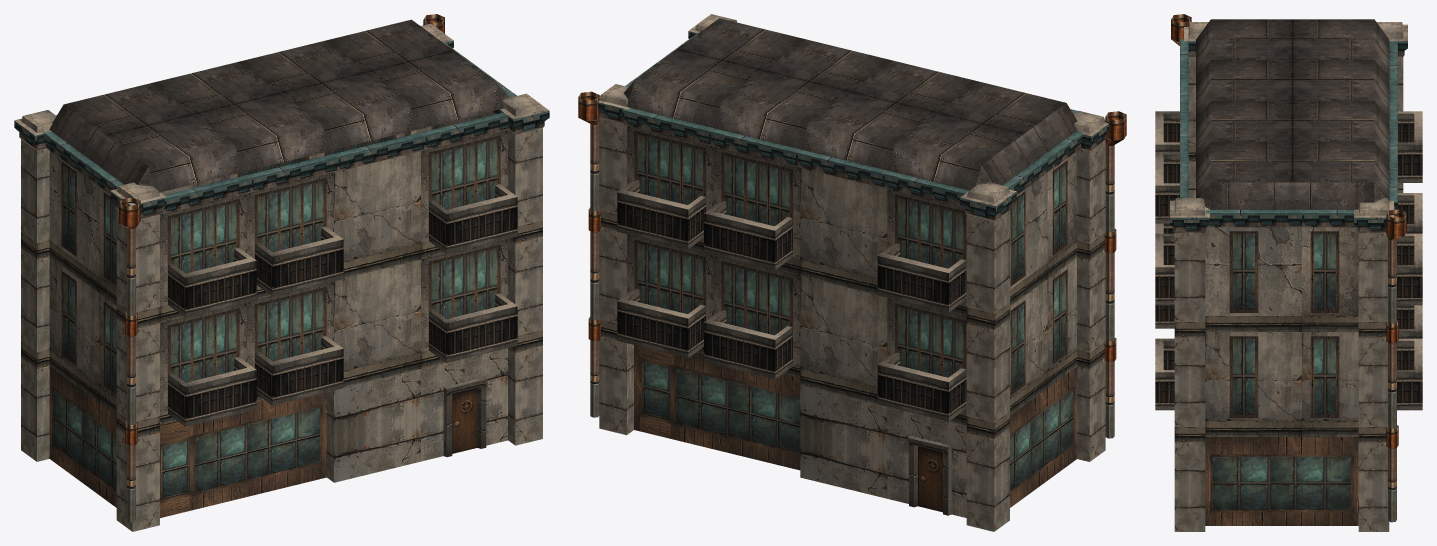
Rendered from building_4.fbx.
3 renders of one model, left to right at view 1: azimuth 30°, elevation 25°; view 2: azimuth 150°, elevation 25°; view 3: azimuth 270°, elevation 25°, orthographic. The views are drawn at different scales.
Parts seen in each view (by area): view 1: building_4; view 2: building_4; view 3: building_4.
Boxes of the visible parts, <box> form: building_4: <box>14,14,549,531</box>; building_4: <box>578,14,1126,531</box>; building_4: <box>1155,14,1422,531</box>.
Size of the model in its own units: 15 by 11.54 by 8.31.
